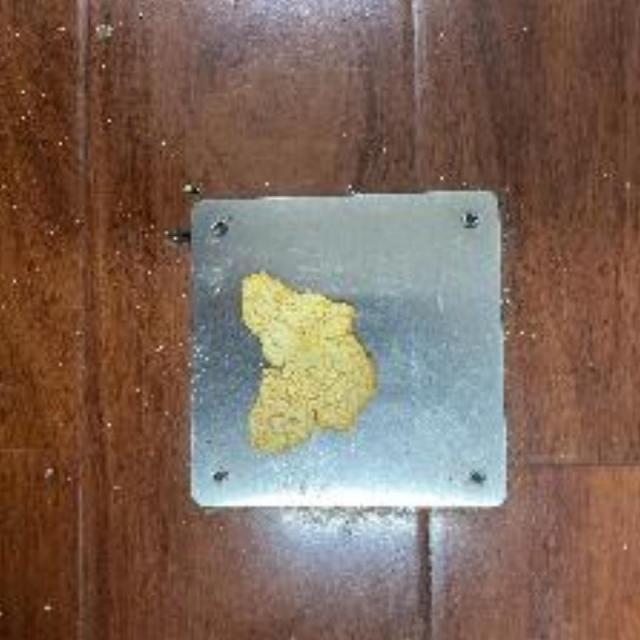orange peel: (236, 261, 382, 454)
